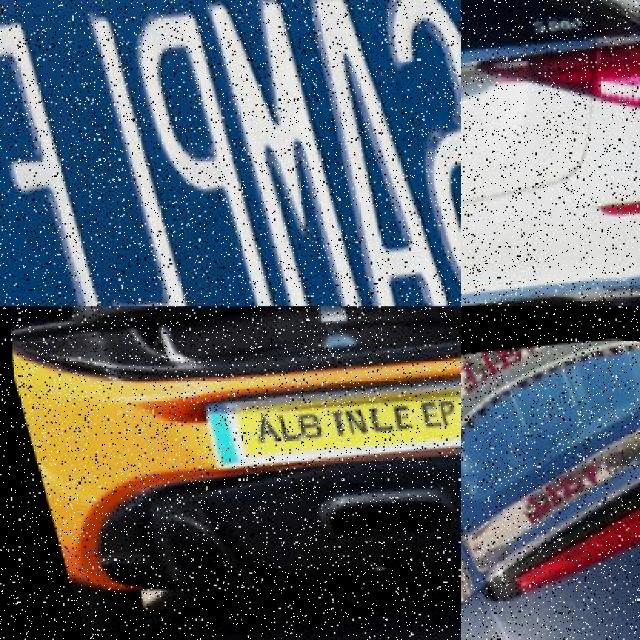licenseplate: (0, 0, 460, 306), (200, 366, 460, 463)
